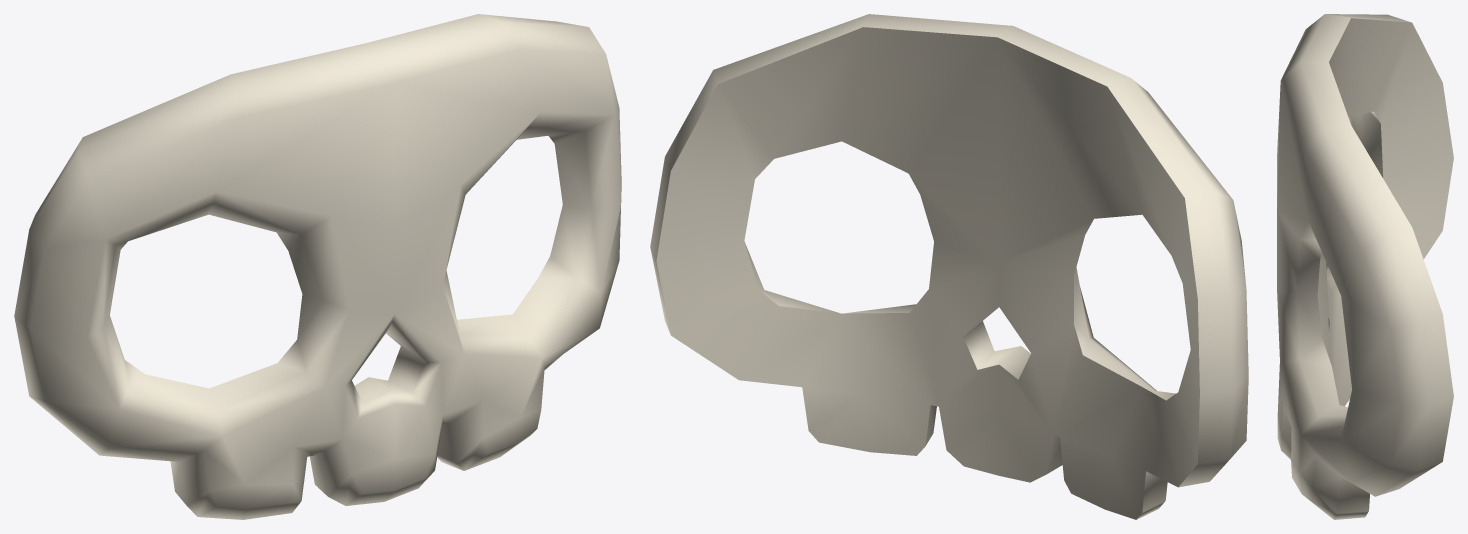
The model's file is Mask_2.fbx.
The picture shows the model from 3 angles, left to right: view 1: azimuth 30°, elevation 25°; view 2: azimuth 150°, elevation 25°; view 3: azimuth 270°, elevation 25°; orthographic projection. The views are drawn at different scales.
Visible parts, largest first — view 1: Mask_2; view 2: Mask_2; view 3: Mask_2.
Part boxes in pixels (x1,y1,x2,y2): Mask_2: (14,14,621,519); Mask_2: (650,14,1248,519); Mask_2: (1277,14,1453,519).
Size of the model in its own units: 50.65 by 36.54 by 14.83.
